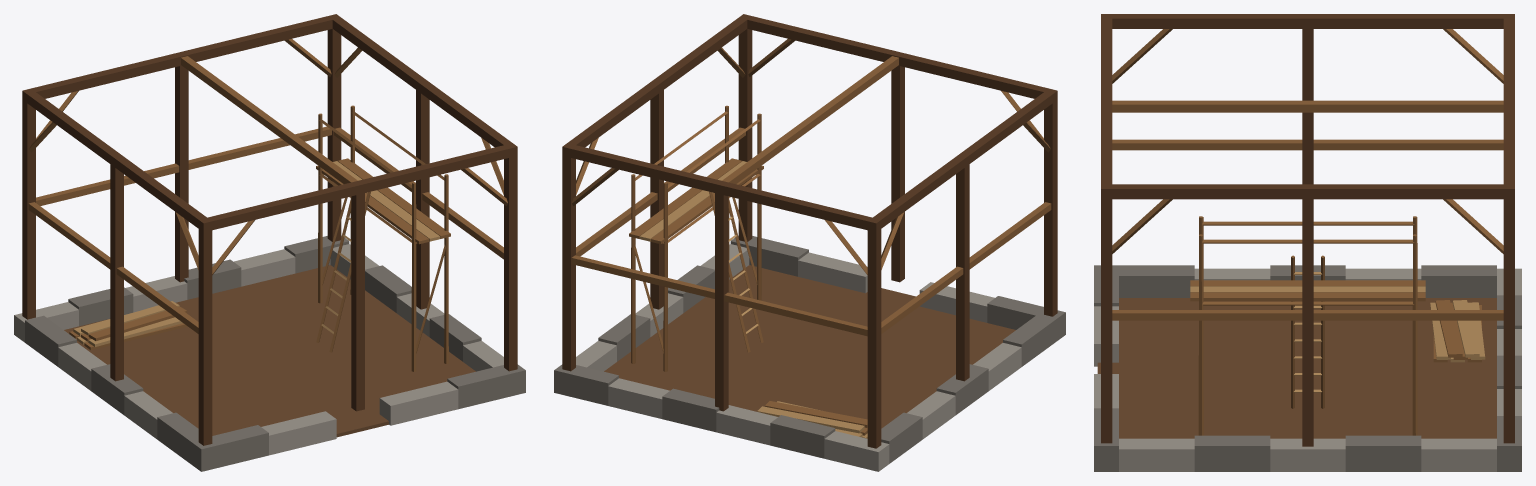
The model's file is site_6x6_2.glb.
The picture shows the model from 3 angles, left to right: view 1: azimuth 30°, elevation 25°; view 2: azimuth 150°, elevation 25°; view 3: azimuth 270°, elevation 25°; orthographic projection. The views are drawn at different scales.
Parts seen in each view (by area): view 1: site_6x6_2; view 2: site_6x6_2; view 3: site_6x6_2.
Boxes of the visible parts, x1,y1,x2,y2 form: site_6x6_2: (14,14,525,471); site_6x6_2: (554,14,1065,471); site_6x6_2: (1094,14,1521,471).
Bounding box in the file's own units: 6 × 4.33 × 6.
